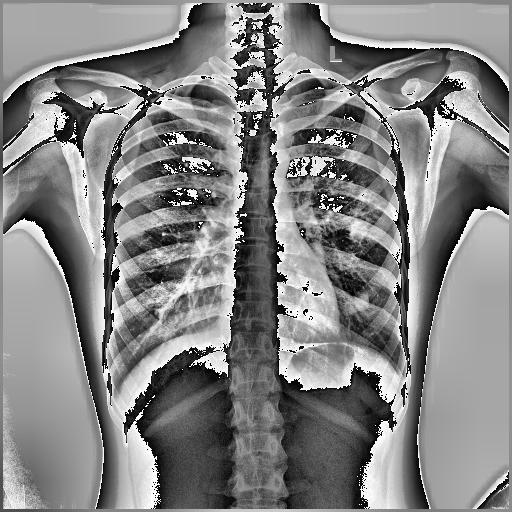13- Pulmonary fibrosis: (349, 188, 382, 244), (352, 184, 380, 238)
6- Infiltration: (324, 173, 387, 243), (349, 188, 382, 244)
8- Nodule-Mass: (349, 188, 382, 244), (354, 293, 370, 310), (354, 291, 368, 309)
9- Other lesion: (352, 184, 380, 238), (354, 291, 368, 309)
